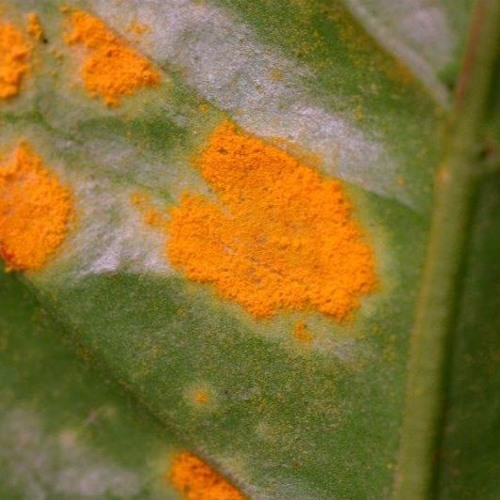roya: (11, 18, 385, 330)
